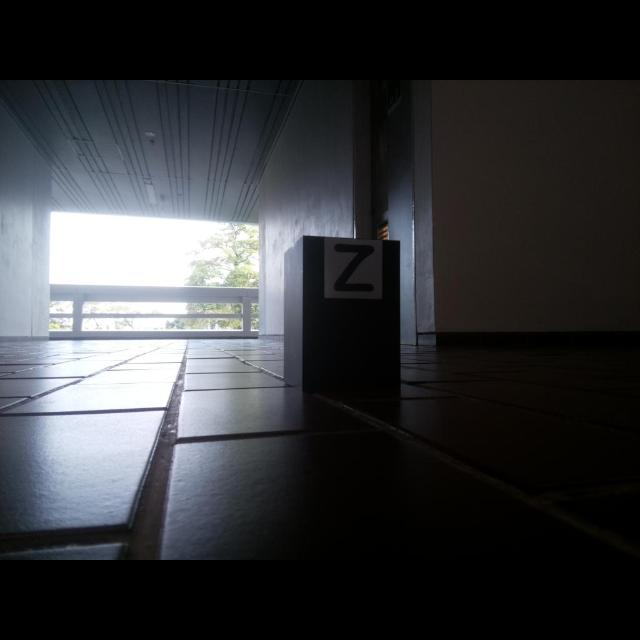Z: (334, 244, 375, 292)
